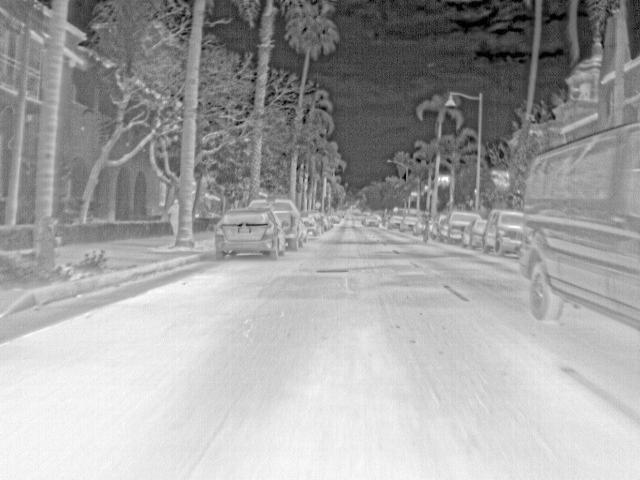car: (521, 119, 640, 333), (215, 206, 285, 261), (249, 197, 303, 252), (485, 207, 523, 256), (445, 211, 479, 242), (461, 218, 487, 252), (303, 214, 321, 234), (432, 213, 445, 238), (311, 211, 327, 231), (387, 214, 401, 230), (300, 221, 309, 242), (363, 215, 380, 226), (402, 216, 414, 230), (322, 216, 335, 228), (334, 215, 343, 223)
person: (170, 197, 180, 236), (420, 209, 433, 225)
